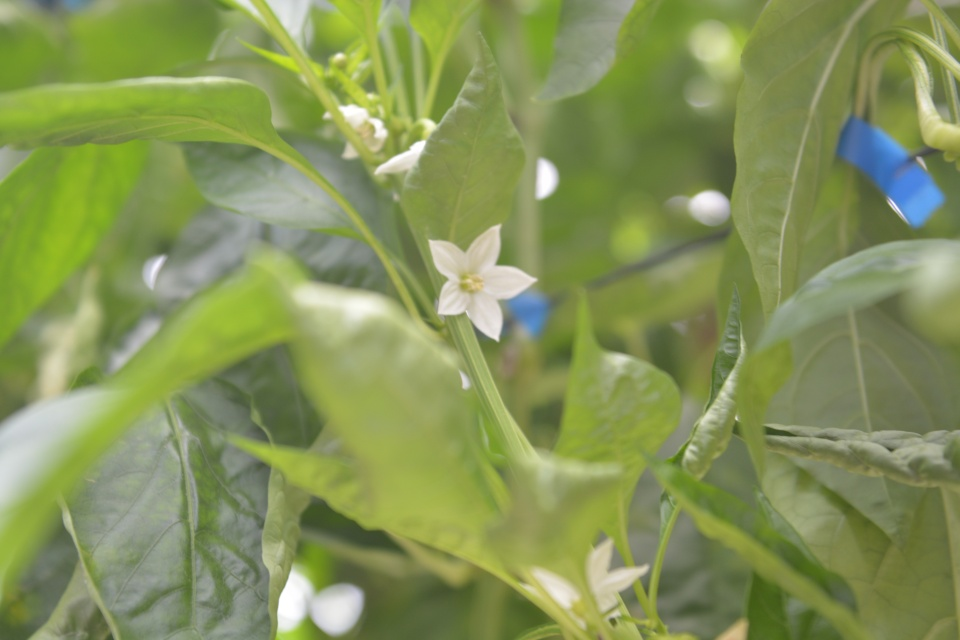flower: (426, 220, 539, 346), (520, 533, 650, 635), (320, 100, 389, 162)
